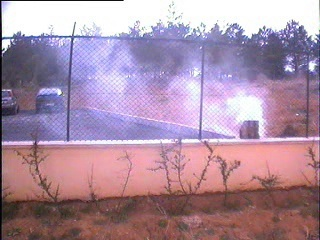smoke: (60, 29, 269, 136)
